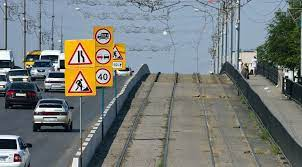1.18.2: (67, 43, 93, 67)
1.23: (66, 70, 94, 95)
